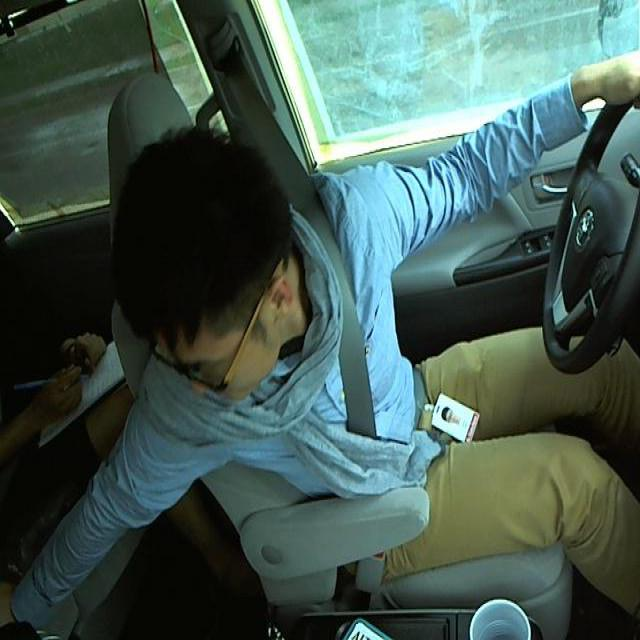seatbelt: (296, 241, 433, 480)
